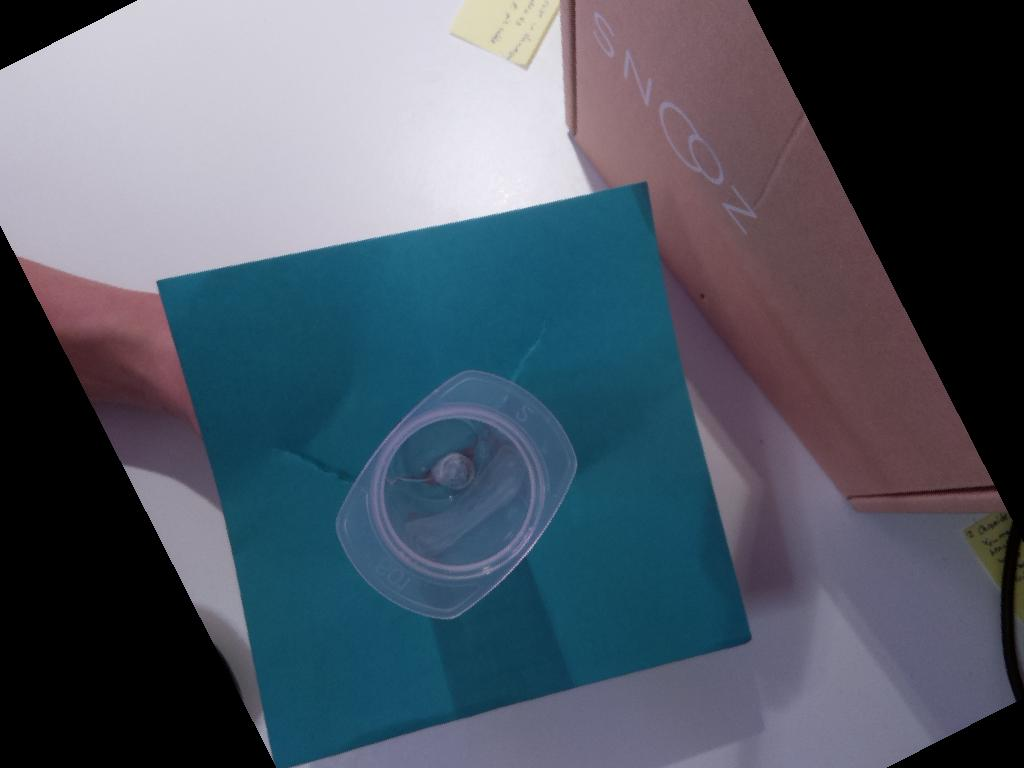clean: (336, 370, 580, 621)
